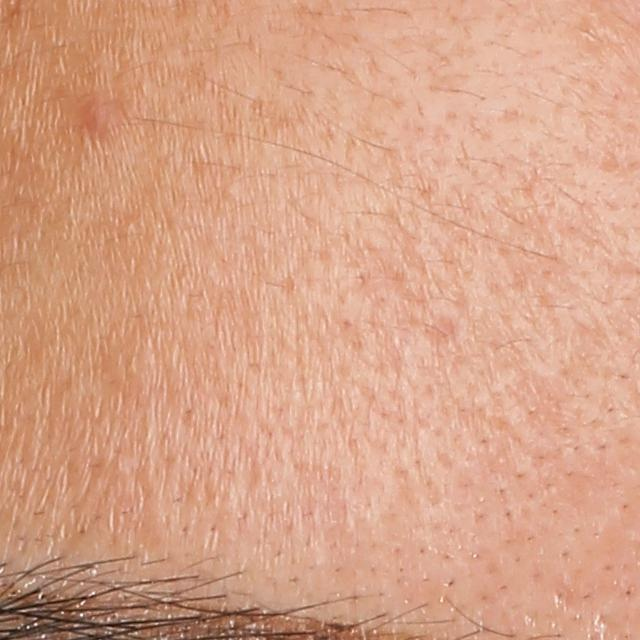comedo: (219, 180, 244, 202)
papule: (82, 96, 114, 133)
